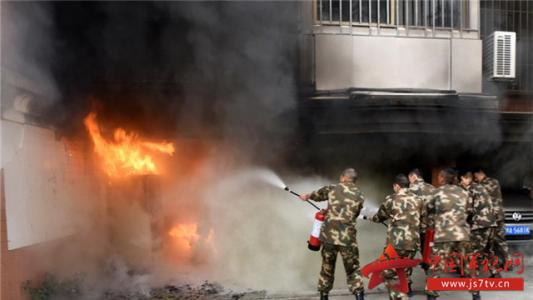fire: (74, 100, 183, 179)
